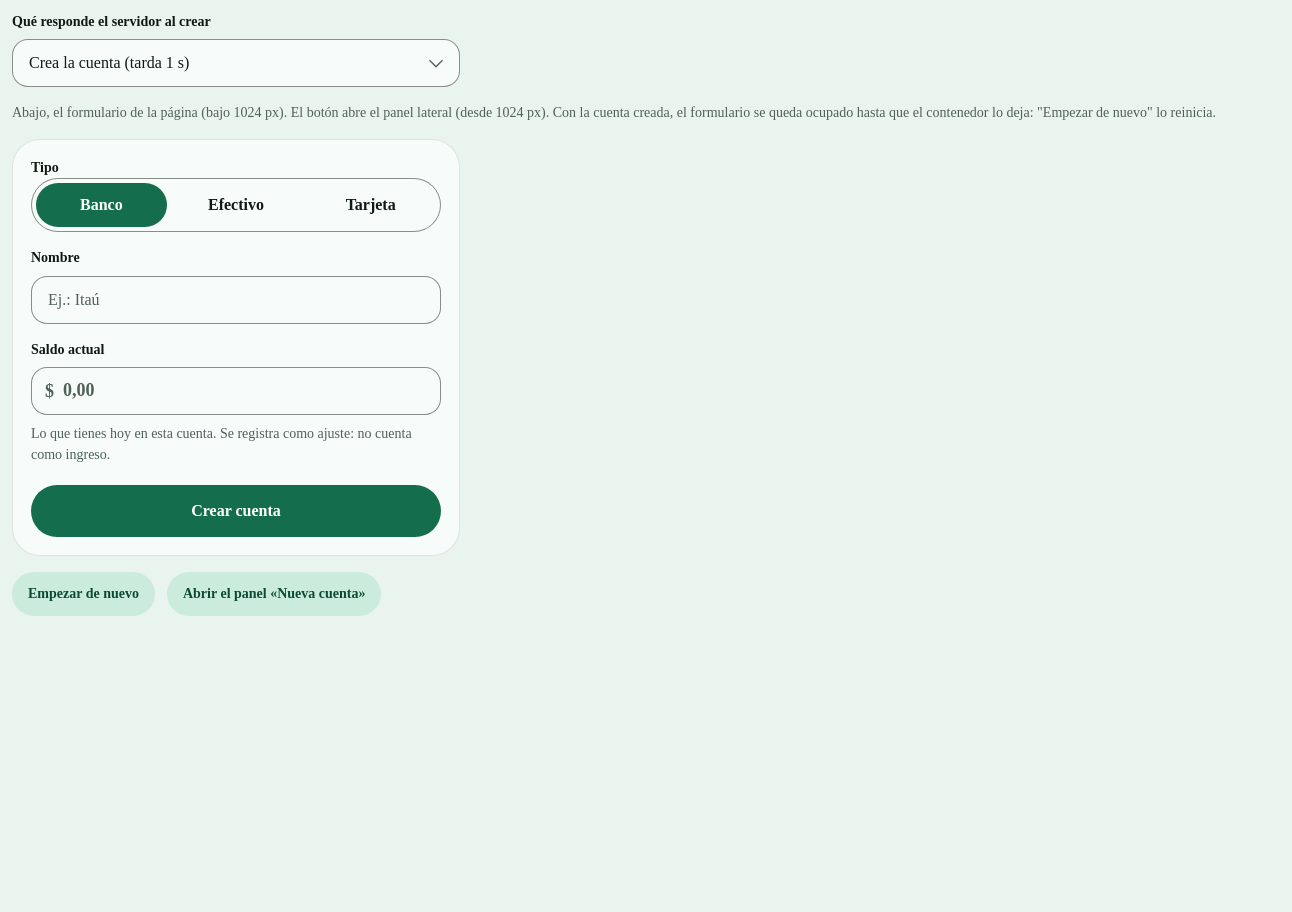
it: AccountFormDemo › marks the fields of a 422
Select "422: marca el nombre y el saldo" in the dropdown labelled "Qué responde el servidor al crear" at [236, 63], box left=12, top=39, right=460, bottom=87
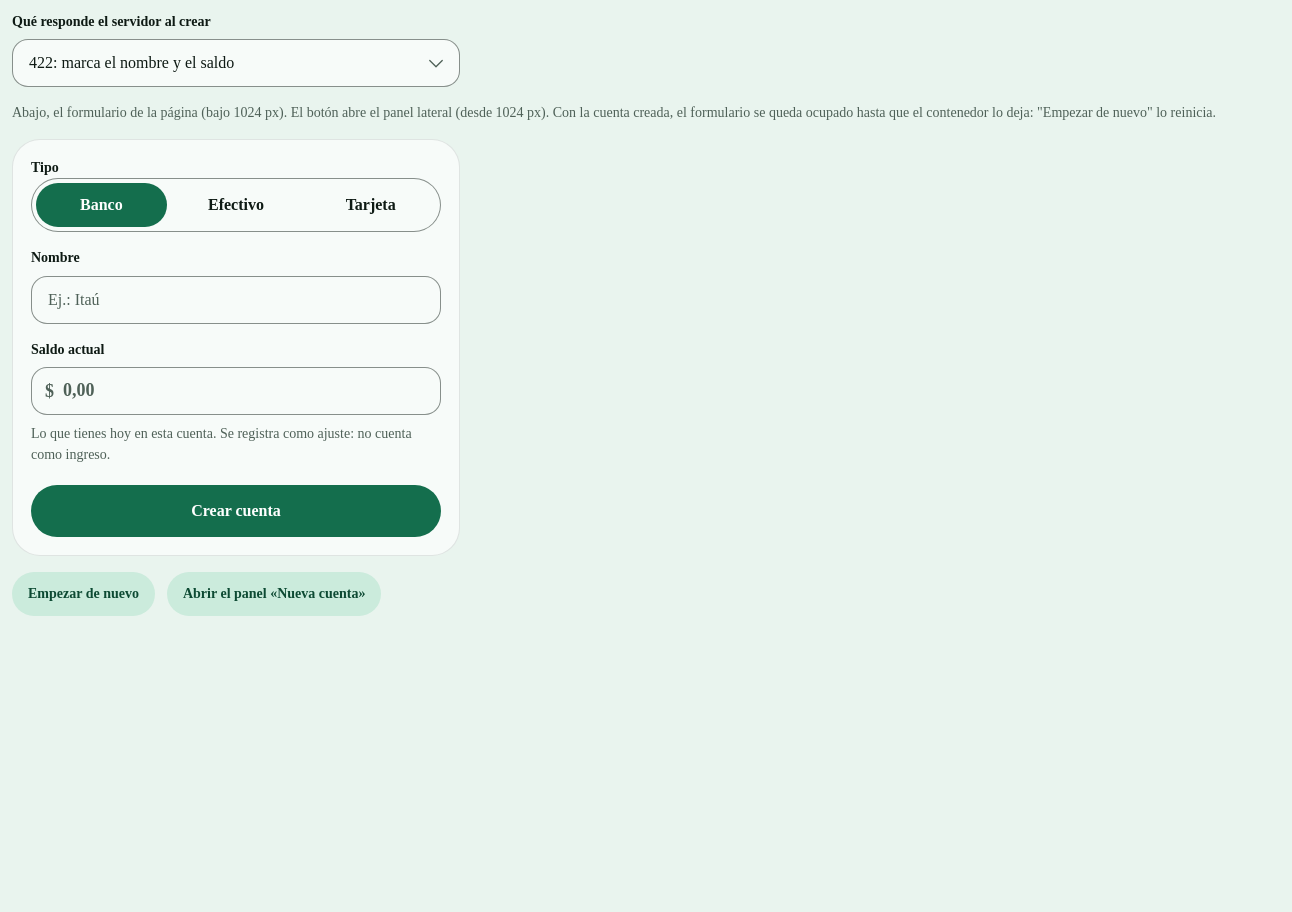
Type "Itaú" into the field labelled "Nombre" at [236, 300], box left=31, top=276, right=441, bottom=324
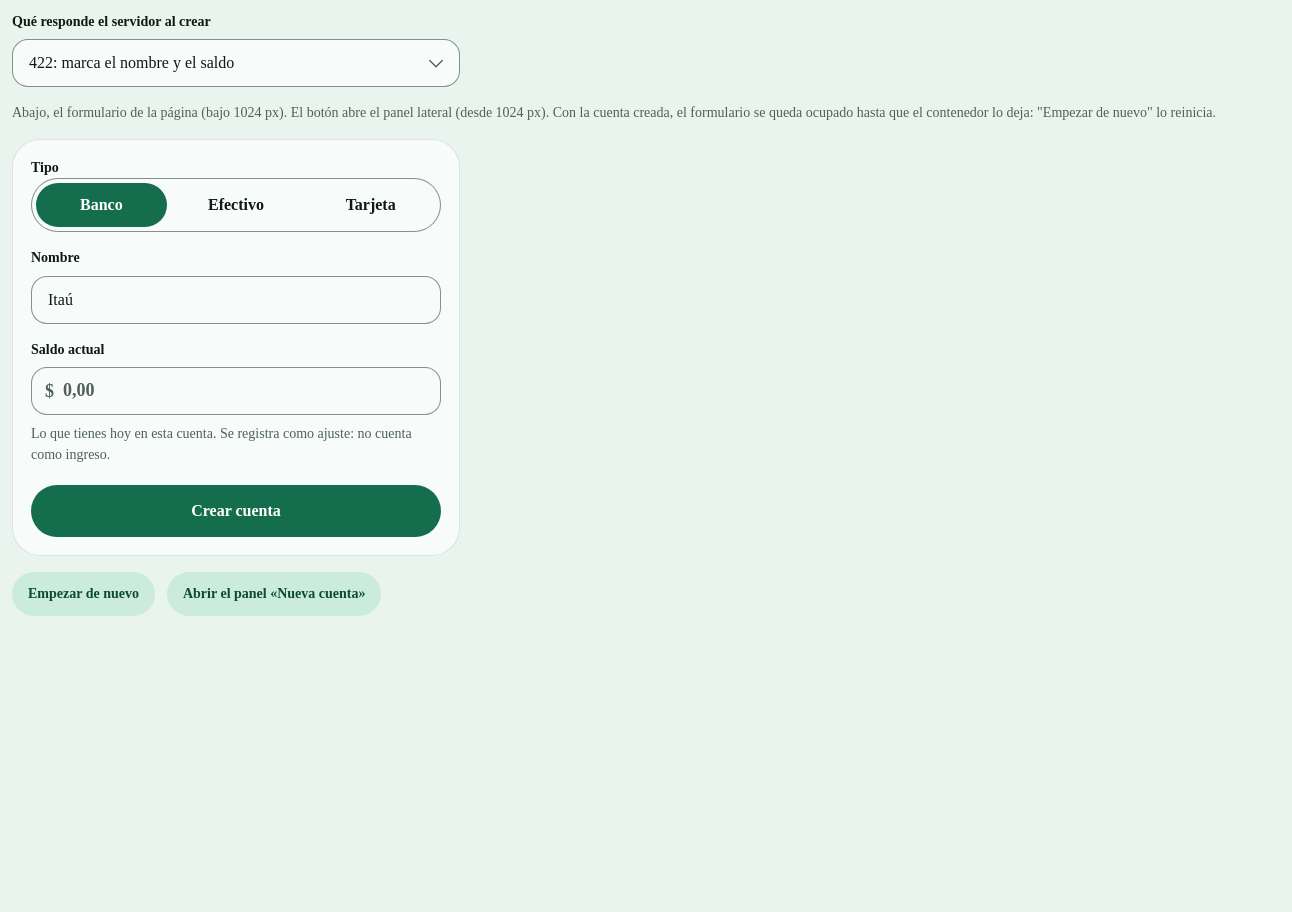
Click the button "Crear cuenta" at [236, 511], box left=31, top=485, right=441, bottom=537
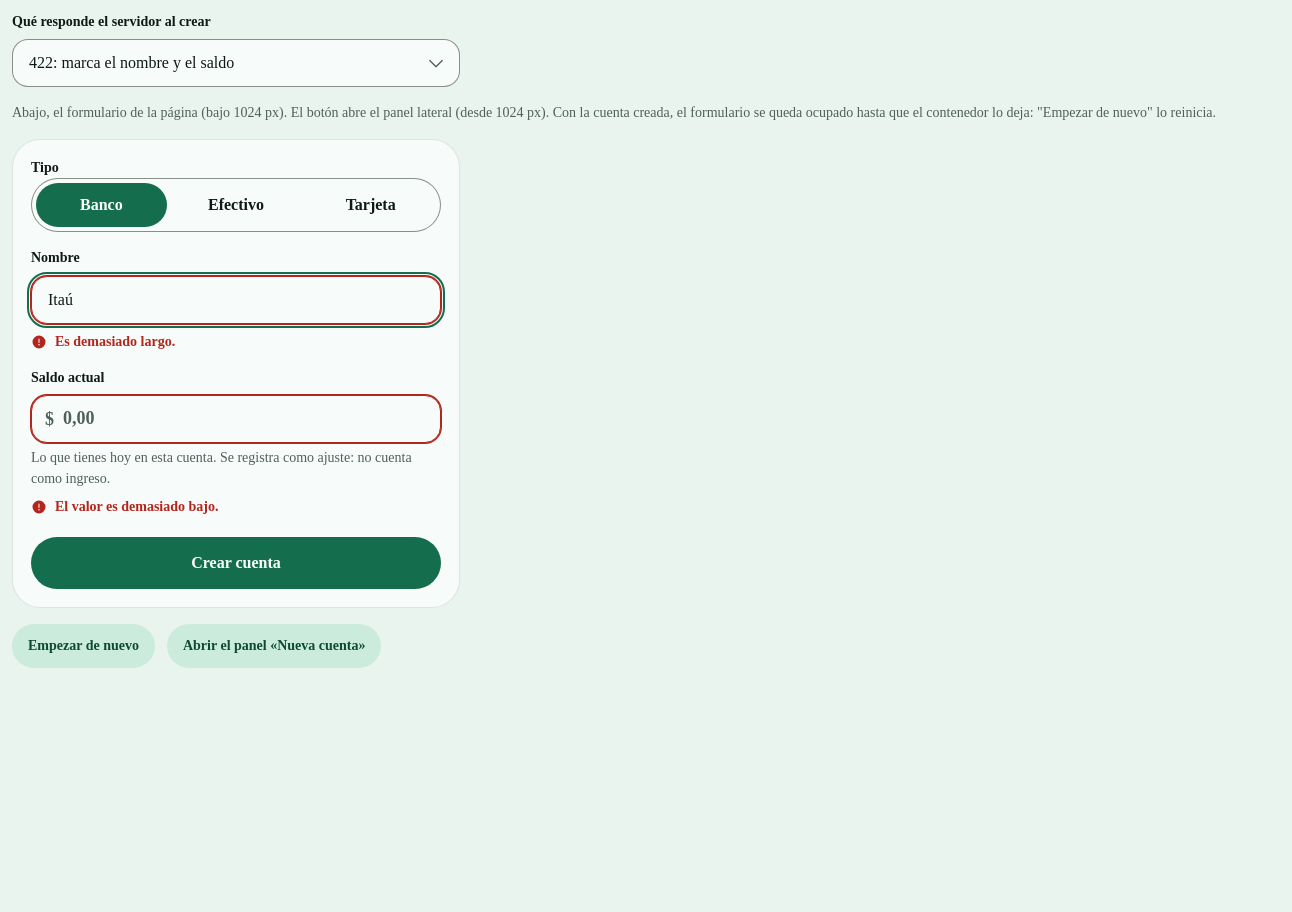
Result: the text "Es demasiado largo." is shown at left=55, top=332, right=175, bottom=352
